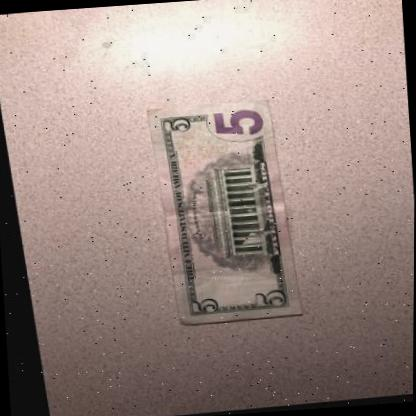five-back: (142, 97, 299, 328)
